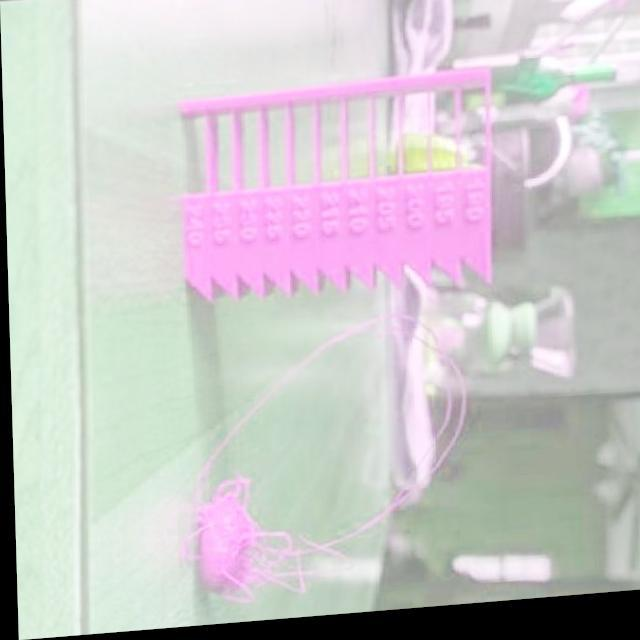spaghetti: (168, 304, 491, 615)
